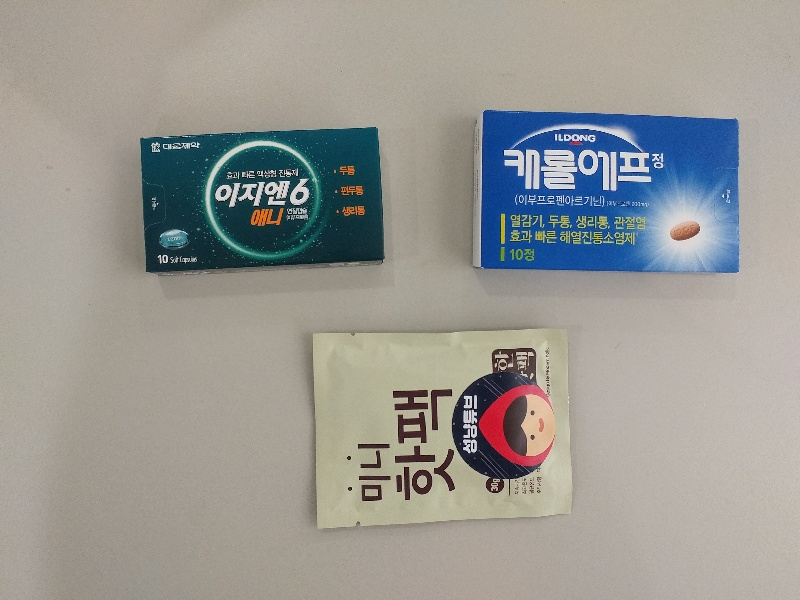carolF: (476, 110, 742, 267)
ezn: (138, 128, 385, 269)
